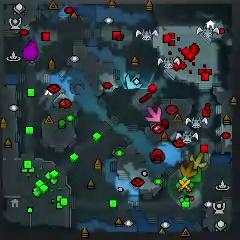Other: (176, 177, 193, 195)
p3: (22, 40, 40, 61)
x1: (145, 106, 162, 123)
x2: (190, 153, 206, 169)
x3: (125, 72, 142, 91)
x4: (190, 168, 202, 183)
x5: (179, 162, 198, 177)
